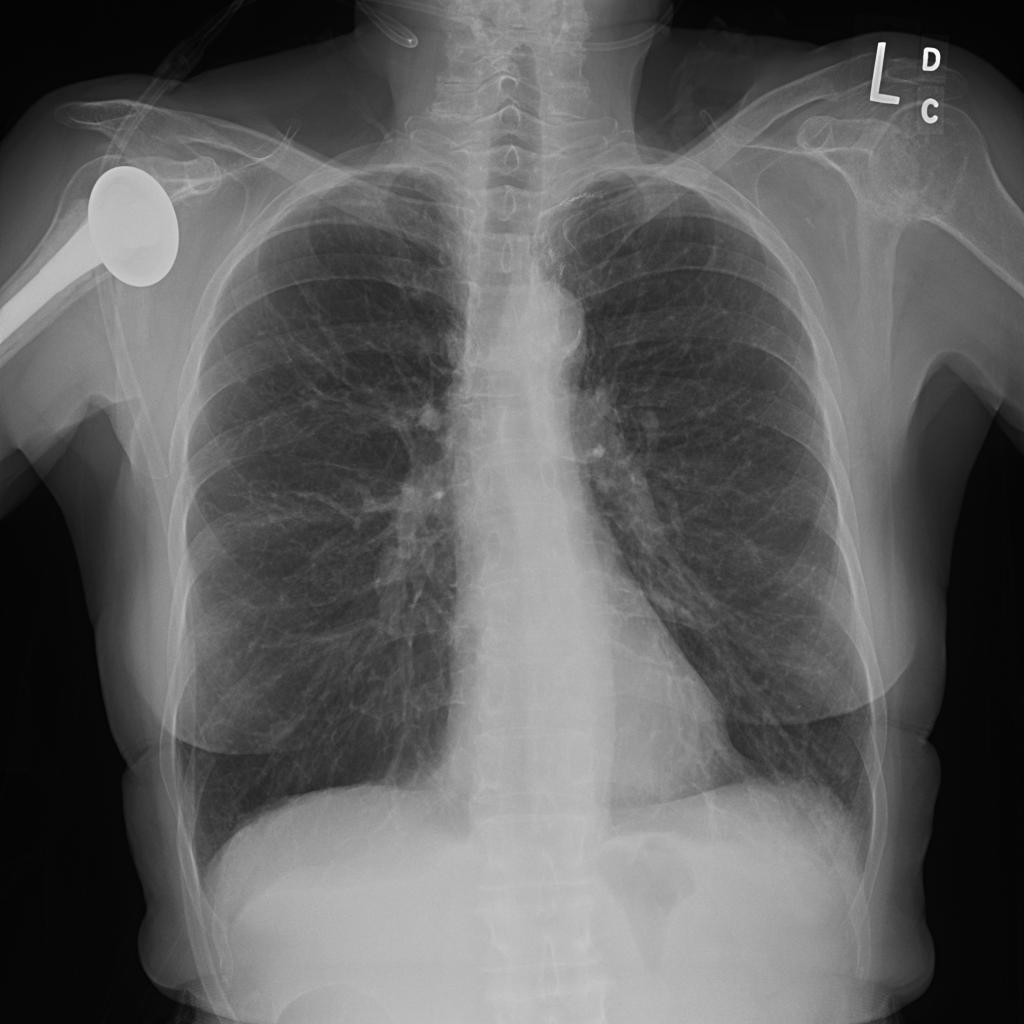Nodule: (152, 146, 173, 196)
